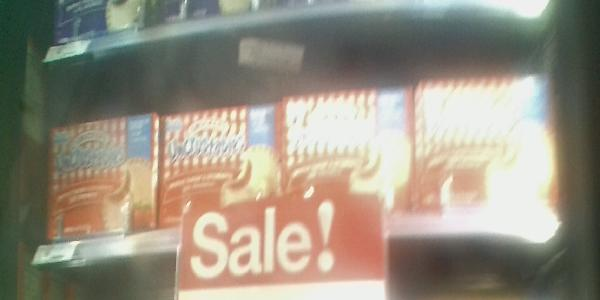icecream: (418, 73, 553, 217), (283, 87, 414, 216), (161, 104, 282, 225), (45, 115, 155, 238)
